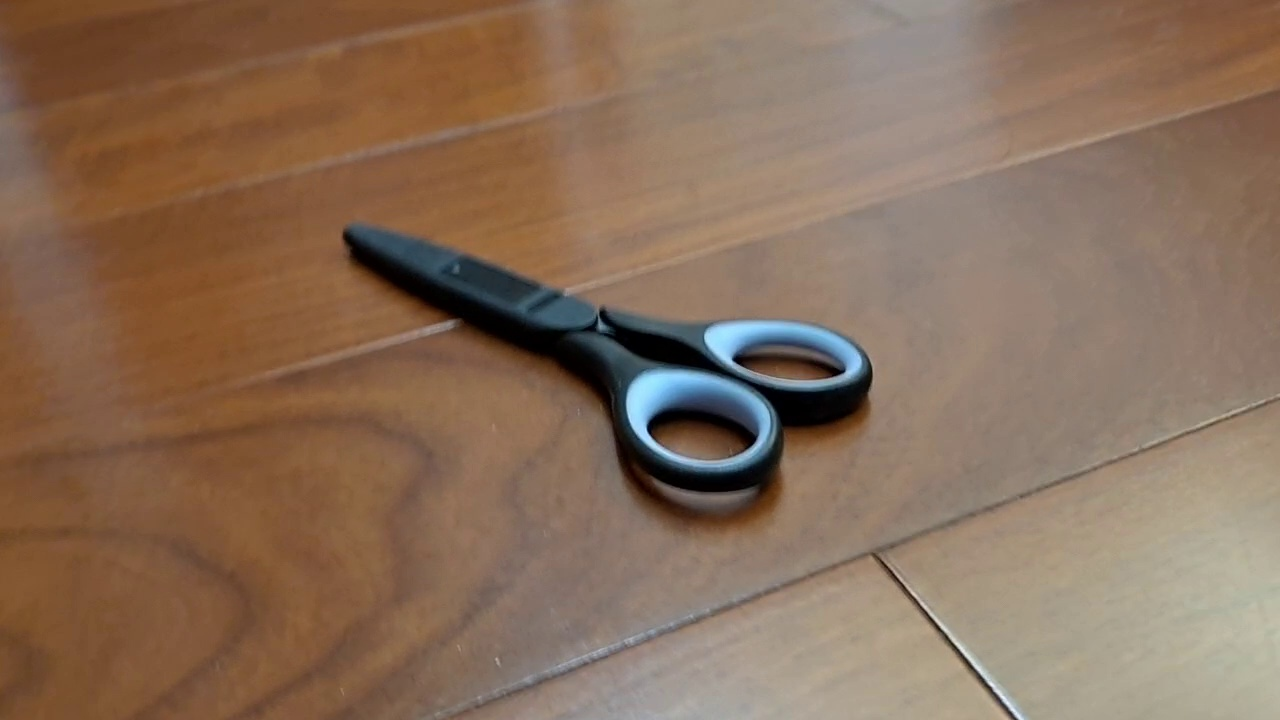scissors: (340, 221, 875, 495)
